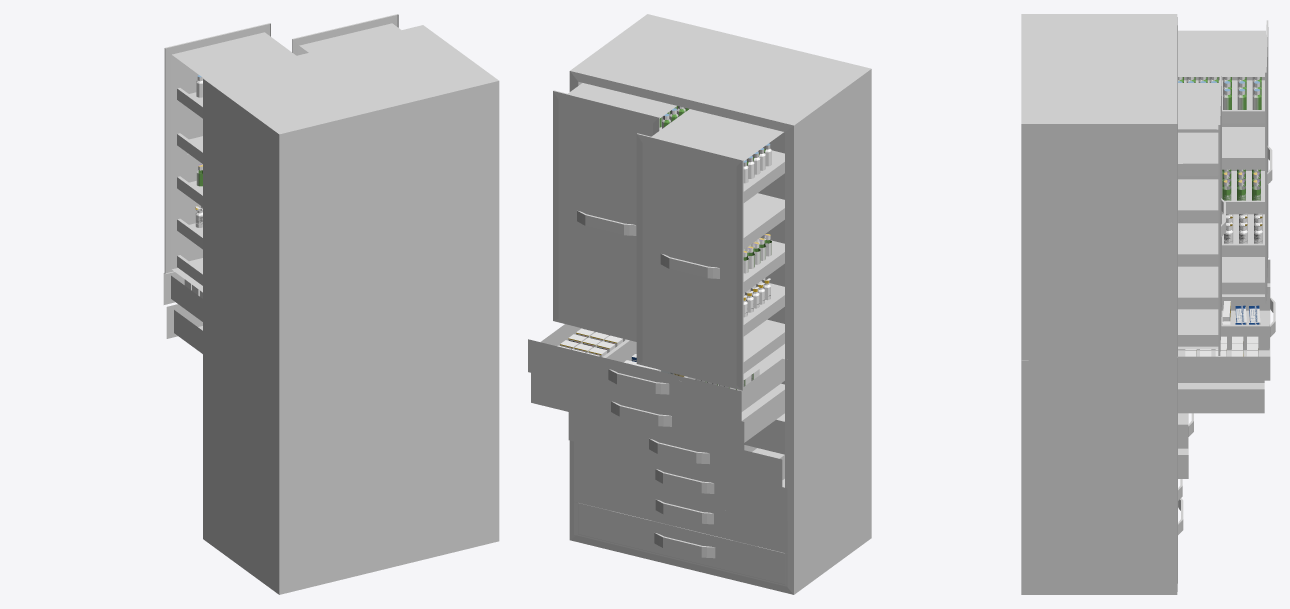
File: mueble cajonera 1.fbx
The picture shows the model from 3 angles, left to right: view 1: azimuth 30°, elevation 25°; view 2: azimuth 150°, elevation 25°; view 3: azimuth 270°, elevation 25°; orthographic projection. The views are drawn at different scales.
Visible parts, largest first — view 1: Torreta de farmacia.006, Cubo.131, Cubo.141, Cubo.139, Torreta de farmacia.004; view 2: Torreta de farmacia.006, Cubo.131, Cubo.141, Torreta de farmacia.004, Cubo.139, Cubo.125, Cubo.137, Cubo.138, Cubo.140, Cube.150, Cubo.130, Isodine Espuma.005 (+2 smaller); view 3: Torreta de farmacia.006, Cubo.131, Cubo.141, Torreta de farmacia.004, Cubo.139, Cube.150, Isodine Solucion.029, Isodine Espuma.005, Cubo.138, Cefazolina sodica vial.002.
Part boxes in pixels (x1,y1,x2,y2): Torreta de farmacia.006: (203,25,499,594); Cubo.131: (164,23,296,292); Cubo.141: (292,14,401,55); Cubo.139: (166,304,202,353); Torreta de farmacia.004: (163,272,202,321); Torreta de farmacia.006: (569,14,871,594); Cubo.131: (636,109,784,390); Cubo.141: (553,83,676,341); Torreta de farmacia.004: (528,324,784,423); Cubo.139: (531,373,784,454); Cubo.125: (574,502,787,586); Cubo.137: (574,469,787,553); Cubo.138: (568,412,784,492); Cubo.140: (574,441,787,520); Cube.150: (557,328,759,390); Cubo.130: (744,413,784,454); Isodine Espuma.005: (743,234,771,273); Torreta de farmacia.006: (1021,14,1177,594); Cubo.131: (1178,20,1272,303); Cubo.141: (1178,72,1225,355); Torreta de farmacia.004: (1178,259,1275,380); Cubo.139: (1178,380,1264,413); Cube.150: (1185,301,1260,356); Isodine Solucion.029: (1178,77,1261,109); Isodine Espuma.005: (1222,169,1260,200); Cubo.138: (1178,413,1193,478); Cefazolina sodica vial.002: (1224,213,1262,243).
Bounding box in the file's own units: 187 × 200 × 97.78.
